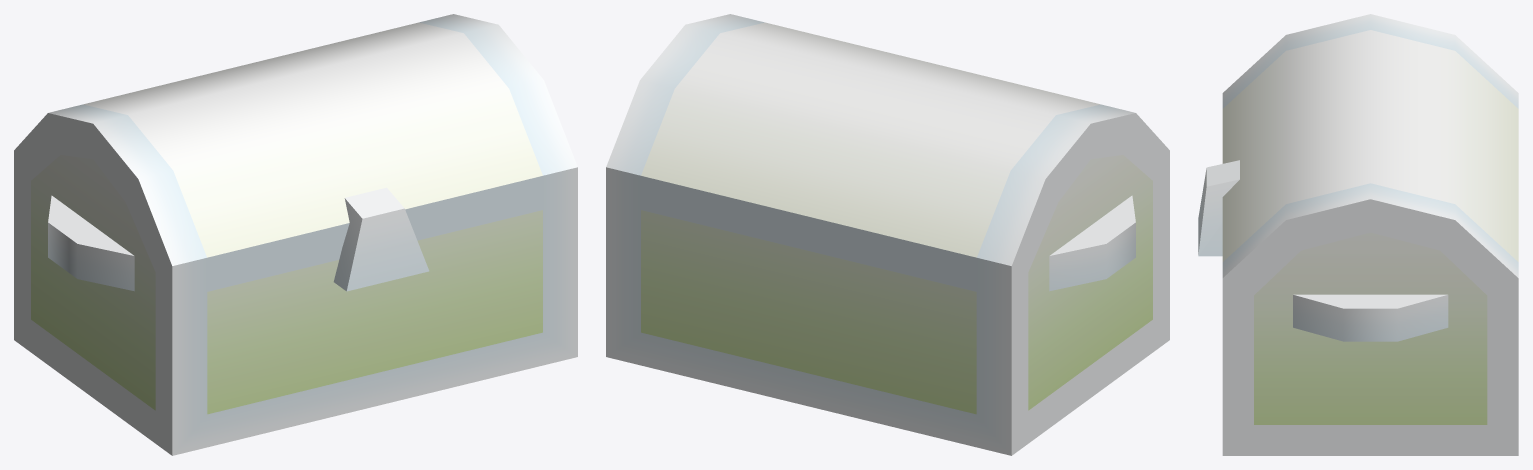
Rendered from loot_chest.glb.
3 renders of one model, left to right at view 1: azimuth 30°, elevation 25°; view 2: azimuth 150°, elevation 25°; view 3: azimuth 270°, elevation 25°, orthographic. The views are drawn at different scales.
Visible parts, largest first — view 1: chest; view 2: chest; view 3: chest.
Boxes of the visible parts, x1,y1,x2,y2 form: chest: (14, 14, 577, 455); chest: (606, 14, 1169, 455); chest: (1198, 14, 1518, 455).
Bounding box in the file's own units: 2.7 × 1.52 × 1.71.
1 material, 1 textured.
